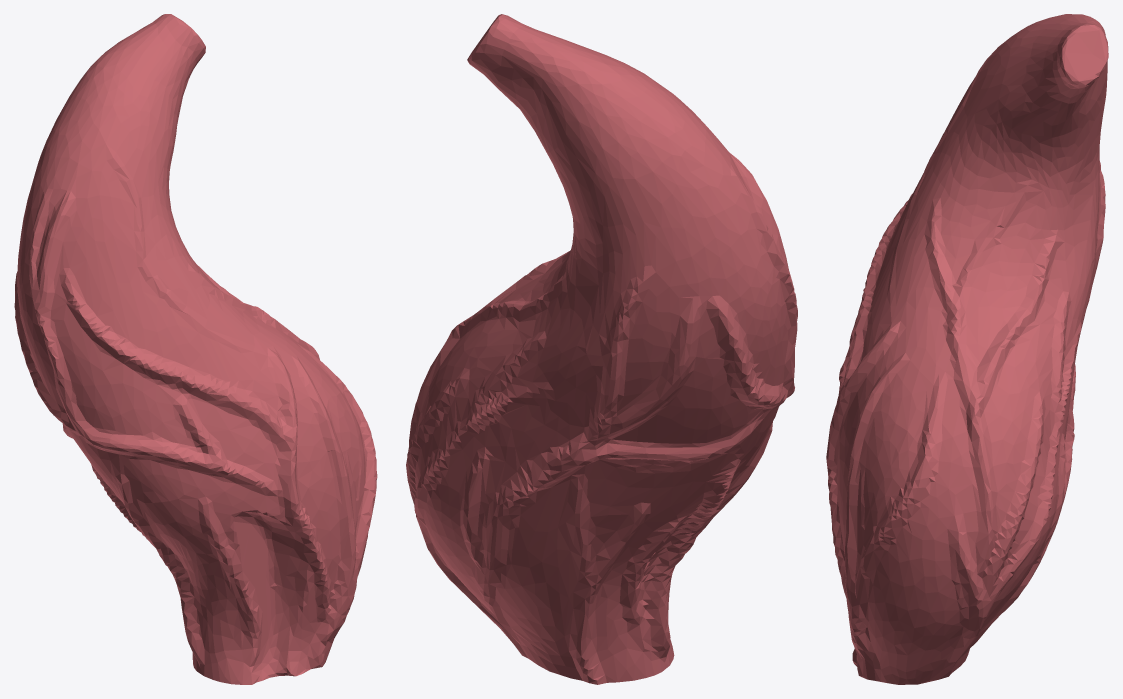
Rendered from frog_kidney.glb.
3 views of the same model, side by side, from view 1: azimuth 30°, elevation 25°; view 2: azimuth 150°, elevation 25°; view 3: azimuth 270°, elevation 25° (orthographic). The views are drawn at different scales.
Parts seen in each view (by area): view 1: frog_kidney; view 2: frog_kidney; view 3: frog_kidney.
Part boxes in pixels (x1=…): frog_kidney: x1=14, y1=14, x2=377, y2=684; frog_kidney: x1=406, y1=14, x2=797, y2=684; frog_kidney: x1=826, y1=14, x2=1108, y2=684.
Bounding box in the file's own units: 0.8457 × 1.5 × 0.6119.
